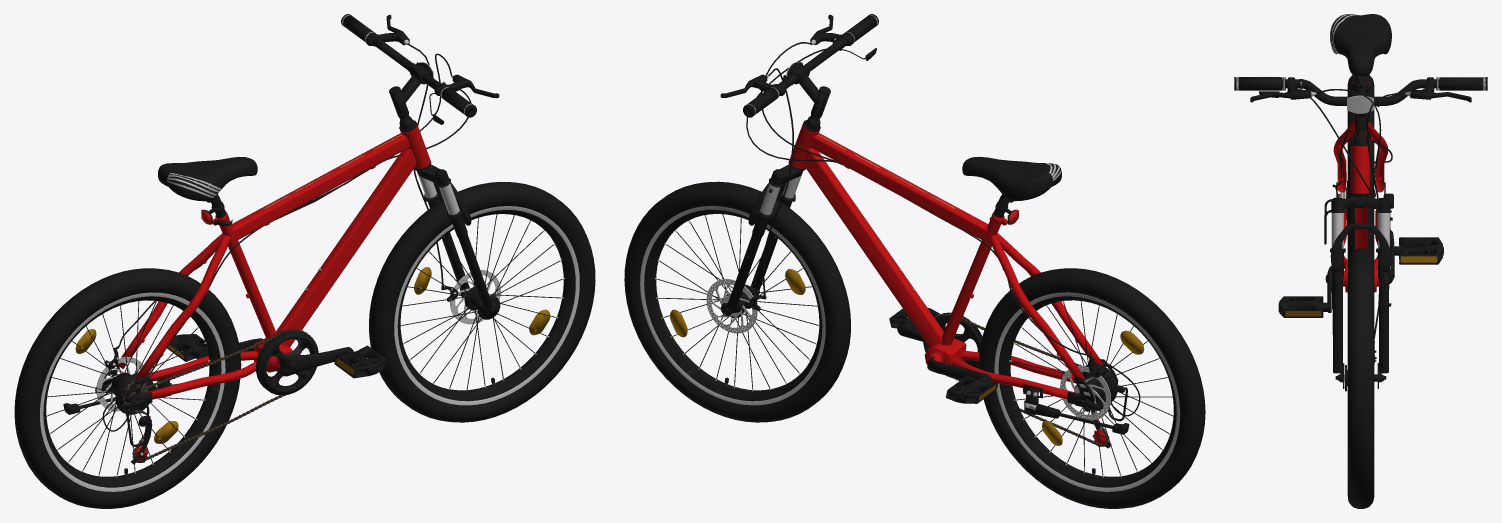
Rendered from cycle.glb.
3 views of the same model, side by side, from view 1: azimuth 30°, elevation 25°; view 2: azimuth 150°, elevation 25°; view 3: azimuth 270°, elevation 25° (orthographic).
Visible parts, largest first — view 1: Cycle; view 2: Cycle; view 3: Cycle.
Part boxes in pixels (box(x1,y1,x2,y2)): Cycle: box(14, 14, 595, 508); Cycle: box(624, 14, 1205, 508); Cycle: box(1234, 14, 1487, 508).
Size of the model in its own units: 178 by 112 by 66.68.
Materials: 1 (1 with a texture image).
